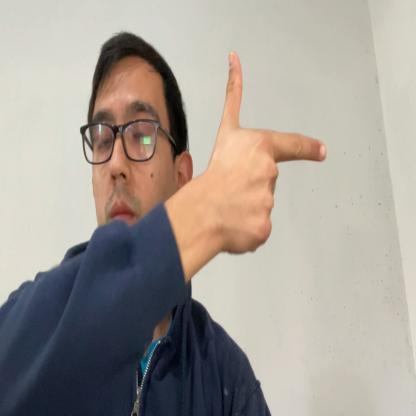G: (220, 51, 326, 256)
